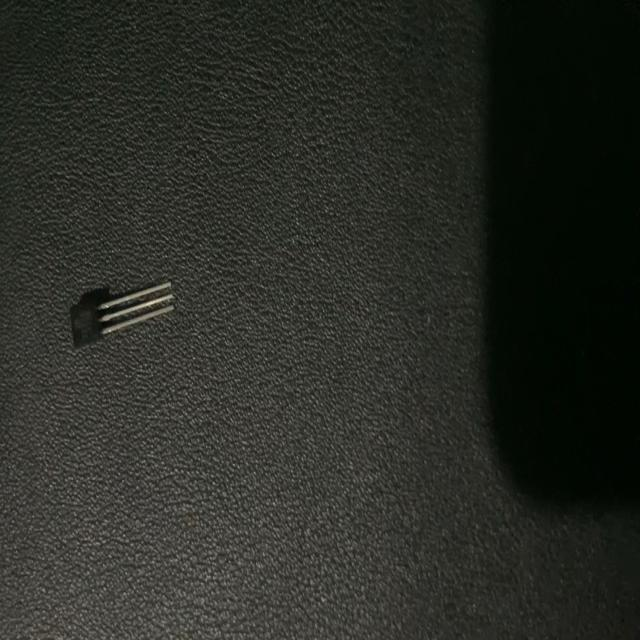BJT: (62, 272, 181, 356)
